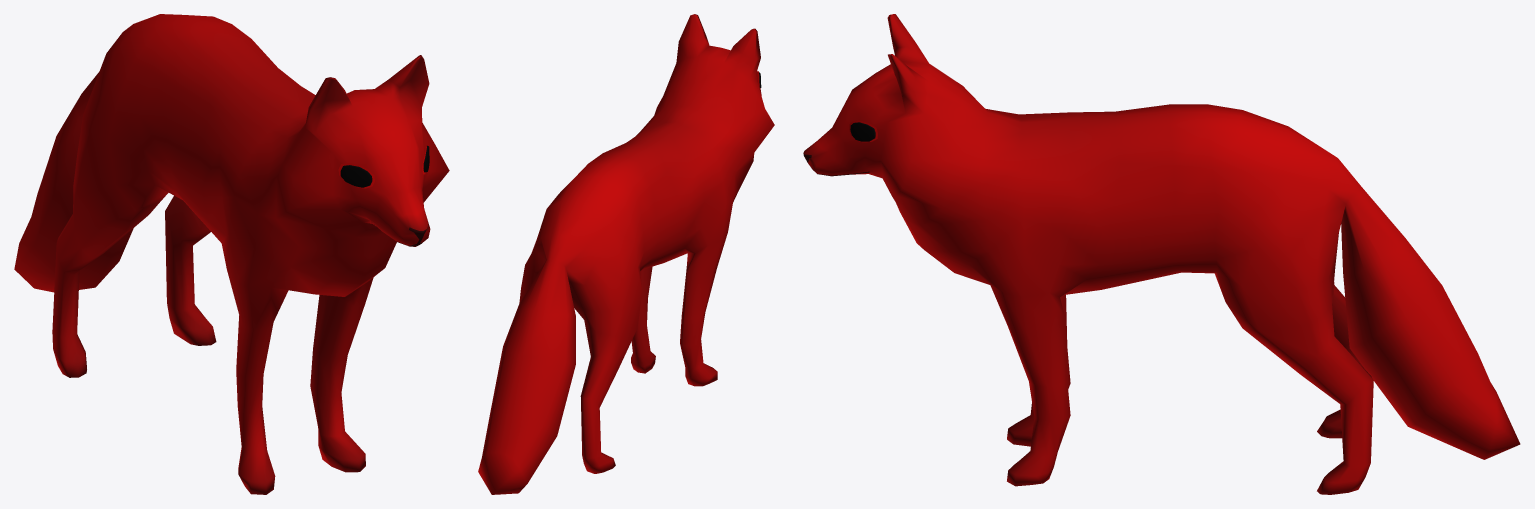
The model's file is Animals_ArcticFox.fbx.
The picture shows the model from 3 angles, left to right: view 1: azimuth 30°, elevation 25°; view 2: azimuth 150°, elevation 25°; view 3: azimuth 270°, elevation 25°; orthographic projection. The views are drawn at different scales.
Visible parts, largest first — view 1: base; view 2: base; view 3: base.
Part boxes in pixels (x1,y1,x2,y2): base: (14, 14, 449, 494); base: (478, 14, 774, 494); base: (803, 14, 1520, 494).
Size of the model in its own units: 38.38 by 106 by 161.
